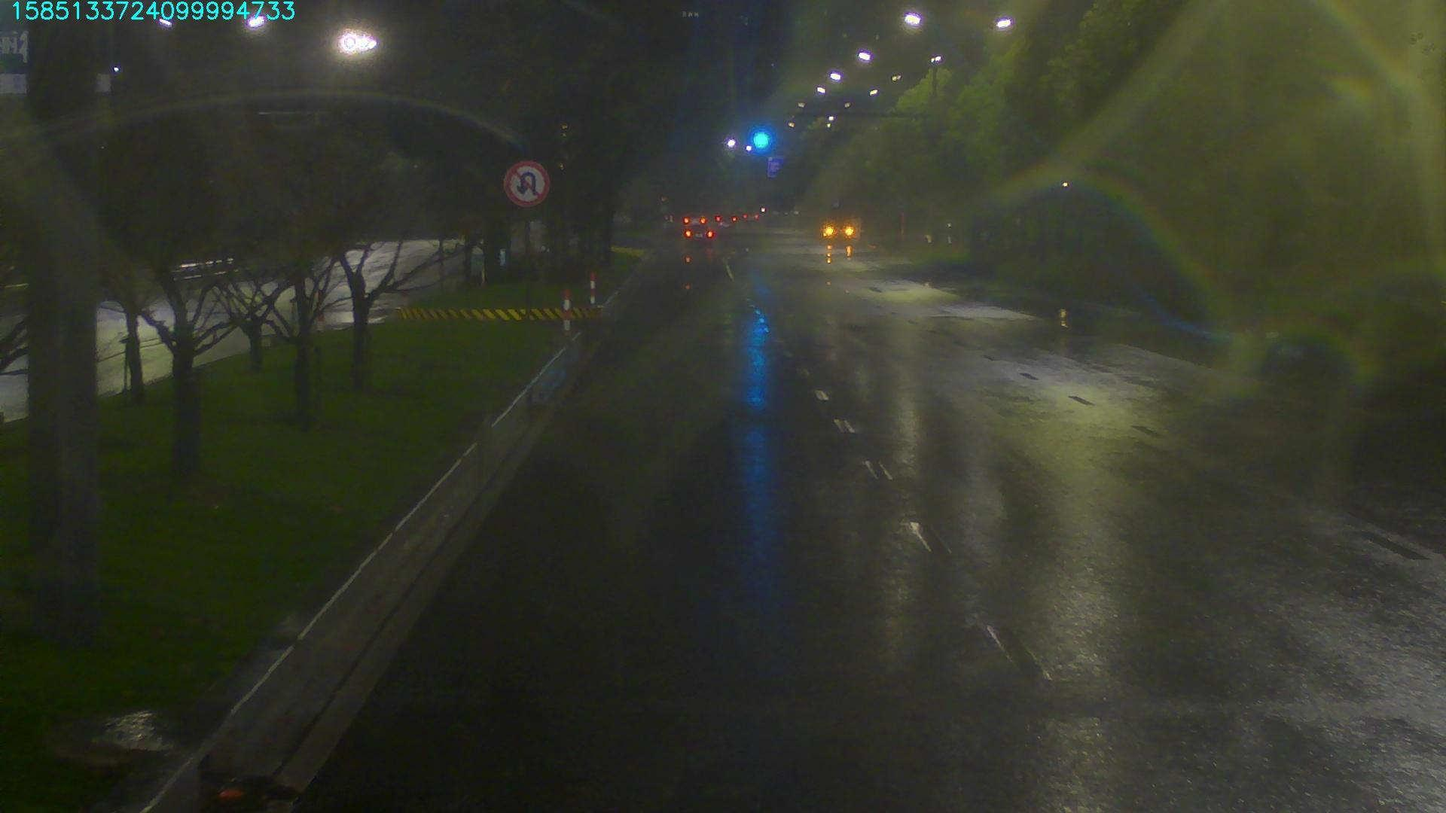green: (749, 122, 776, 156)
